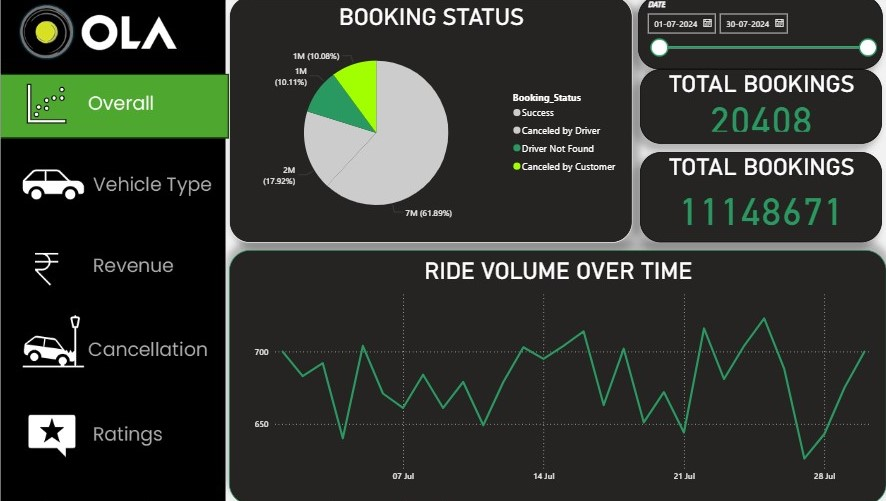

The page's visual inventory and layout, read from the dashboard file:
{"tool":"powerbi","page":{"name":"overall","canvas":[1280,720],"ordinal":0},"visuals":[{"type":"actionButton","box":[0,197.6,325.2,87.8],"z":0},{"type":"lineChart","title":"RIDE VOLUME OVER TIME","fields":{"Y":["CountNonNull(July.Booking_ID)"],"Category":["July.Date"]},"box":[325.2,359.5,931.7,360.9],"z":1000},{"type":"slicer","fields":{"Values":["July.Date"]},"box":[904.3,0,347.2,104.3],"z":2000},{"type":"pieChart","title":"BOOKING STATUS","fields":{"Category":["July.Booking_Status"],"Y":["Sum(July.Booking_Value)"]},"box":[325.2,0,572.2,349.9],"z":3000},{"type":"card","title":"TOTAL BOOKINGS","fields":{"Values":["Count(July.Booking_ID)"]},"box":[907,105.7,343.1,115.3],"z":4000},{"type":"card","title":"TOTAL BOOKINGS","fields":{"Values":["Sum(July.Booking_Value)"]},"box":[907,220.9,349.9,129],"z":5000},{"type":"actionButton","box":[0,337.6,325.2,87.8],"z":6000},{"type":"actionButton","box":[0,452.8,325.2,87.8],"z":7000},{"type":"actionButton","box":[0,580.4,325.2,87.8],"z":8000}]}

Visuals, with their boxes in screenshot pixels (x1, y1, x2, y2), scaled from the page's 1280x720 canvas onto the 886x501 screenshot:
actionButton: (0,137,225,199)
"RIDE VOLUME OVER TIME" lineChart: (225,250,870,500)
slicer - July.Date: (626,0,866,73)
"BOOKING STATUS" pieChart: (225,0,621,243)
"TOTAL BOOKINGS" card: (628,74,865,154)
"TOTAL BOOKINGS" card: (628,154,870,243)
actionButton: (0,235,225,296)
actionButton: (0,315,225,376)
actionButton: (0,404,225,465)
